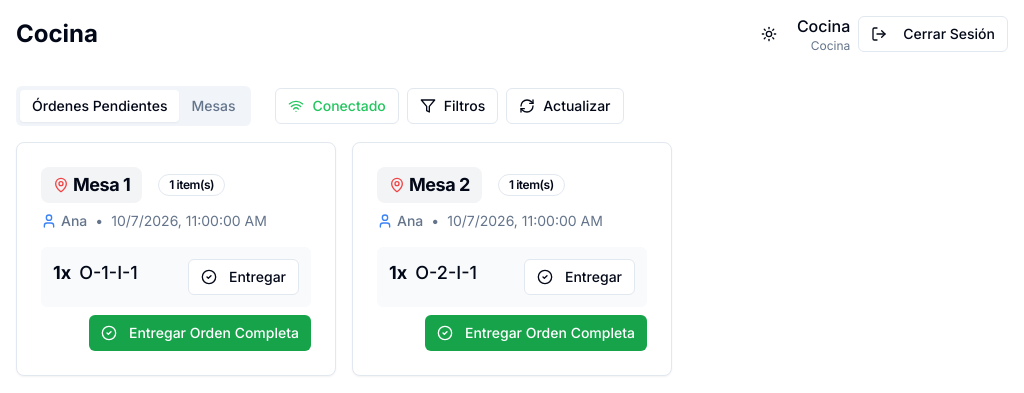
kitchen board local writes › serves an item with one write, patches only that order and reads nothing
This screenshot has width=1024, height=393.
Expected: the text "O-1-I-1" is shown, [79,259,138,287]
What coordinates should you click on to do the following:
click the button "Entregar" next to "O-2-I-1"
I would click on:
 (580, 277)
Its box is [524,259,635,295].
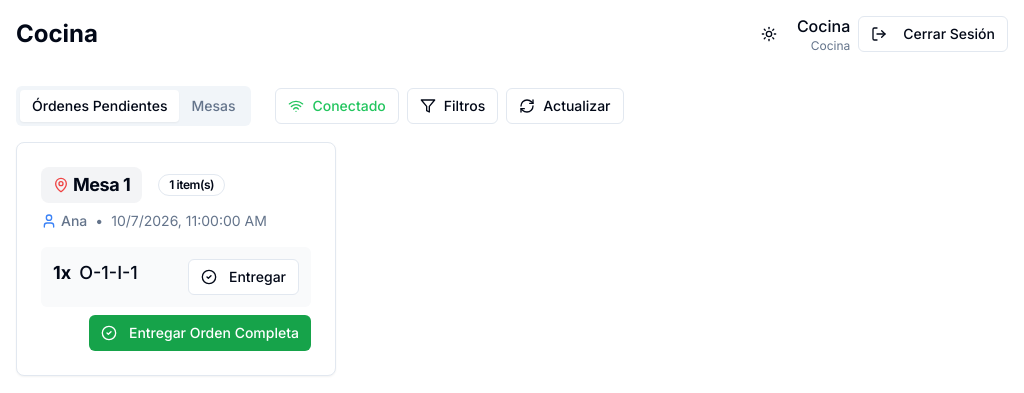
Result: the text "O-2-I-1" is gone
